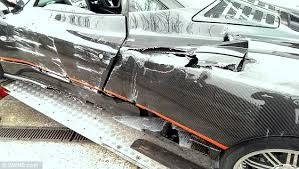Scratch: (6, 17, 60, 80)
Smashed: (66, 22, 262, 104)
